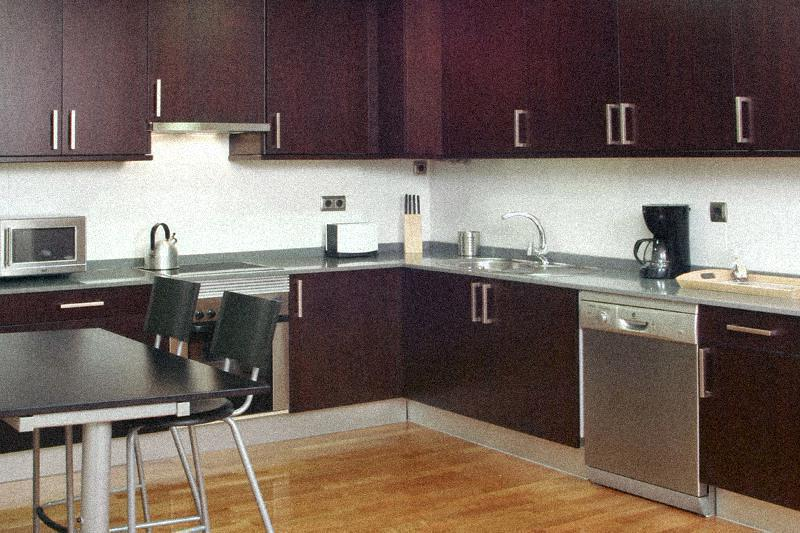Electrodomestico: (581, 296, 692, 502), (165, 267, 291, 432)
Lavaplatos: (422, 202, 582, 286)
